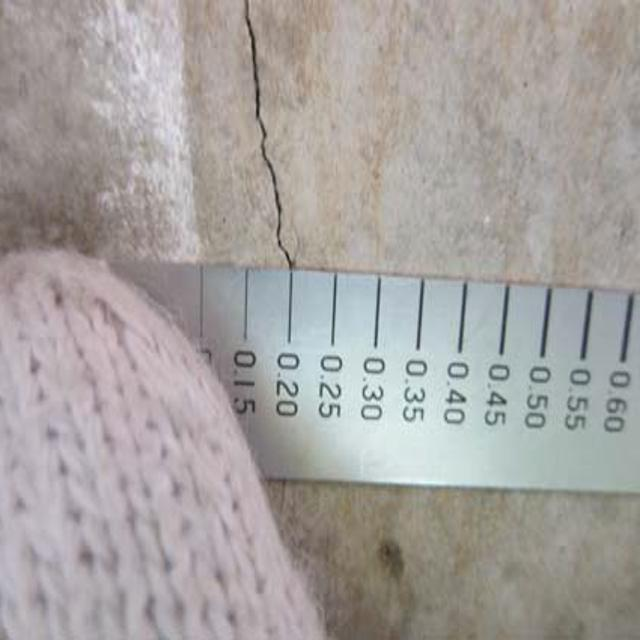crack: (217, 6, 312, 270)
